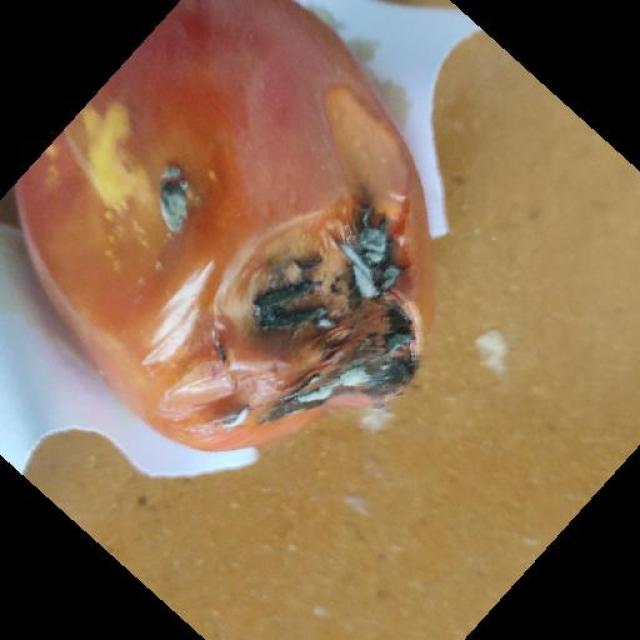Stale_tomato: (33, 0, 447, 431)
